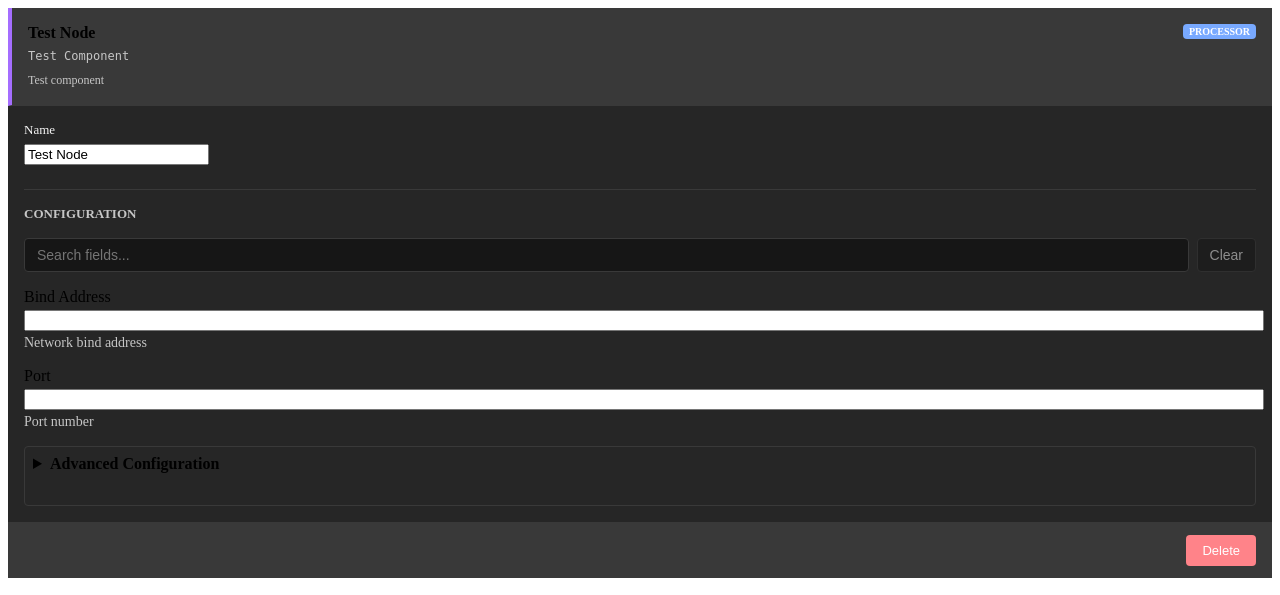
PropertiesPanel - Search/Filter › should filter fields by name
This screenshot has width=1280, height=595.
Type "port" into the field with test id "field-search" at (606, 255), box [24,238,1188,272]
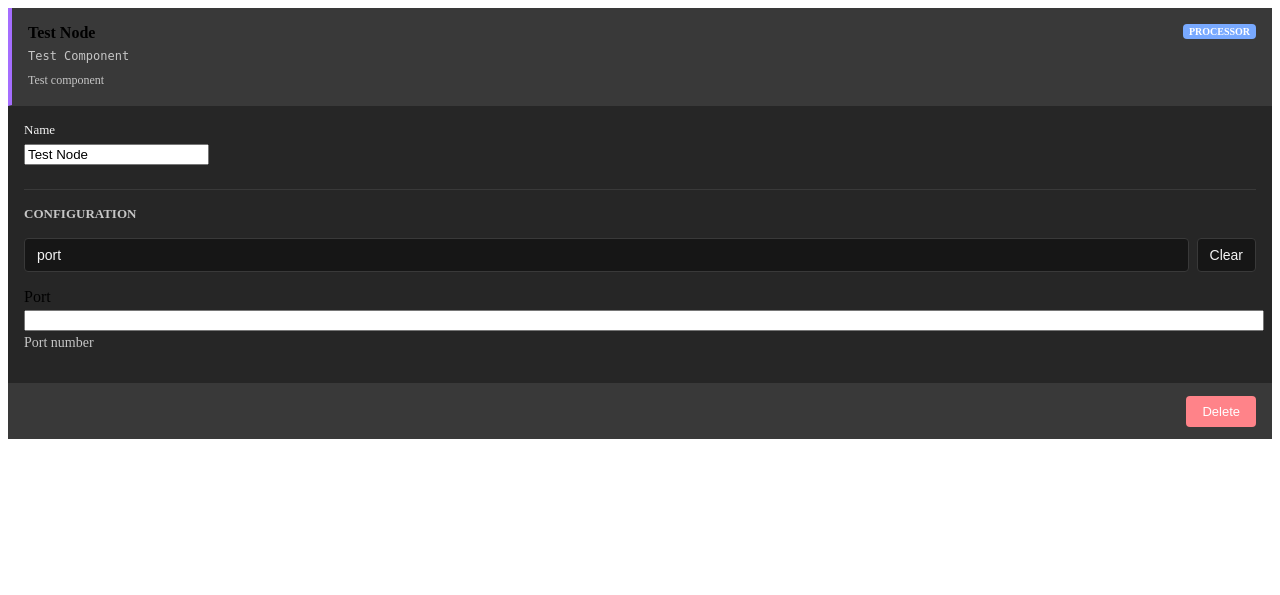
Check: the number field labelled "Port" is shown, box [24,310,1264,331]
Check: the label with id "bind_address" is gone
